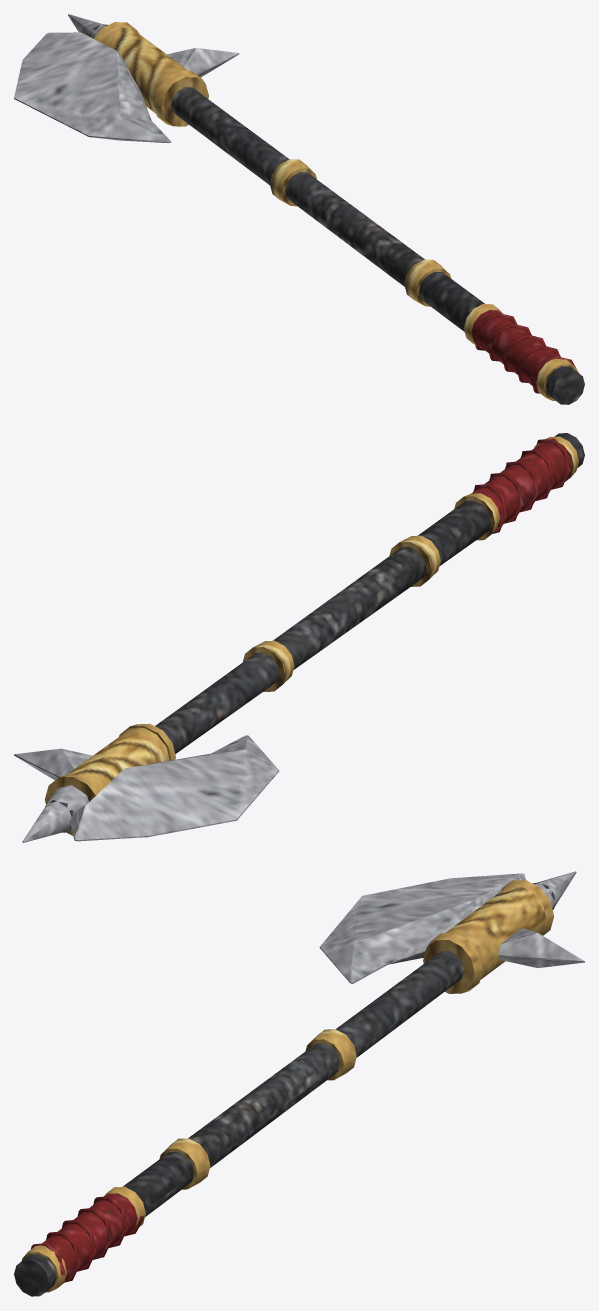
File: item_axe3.glb
3 renders of one model, top to bottom at view 1: azimuth 30°, elevation 25°; view 2: azimuth 150°, elevation 25°; view 3: azimuth 330°, elevation 25°, orthographic. The views are drawn at different scales.
Parts seen in each view (by area): view 1: w02_axe3; view 2: w02_axe3; view 3: w02_axe3.
Part boxes in pixels (x1,y1,x2,y2): w02_axe3: (14, 14, 584, 404); w02_axe3: (14, 433, 584, 842); w02_axe3: (14, 871, 584, 1296).
Size of the model in its own units: 0.24 by 0.0588 by 0.9671.
Materials: 1 (1 with a texture image).
